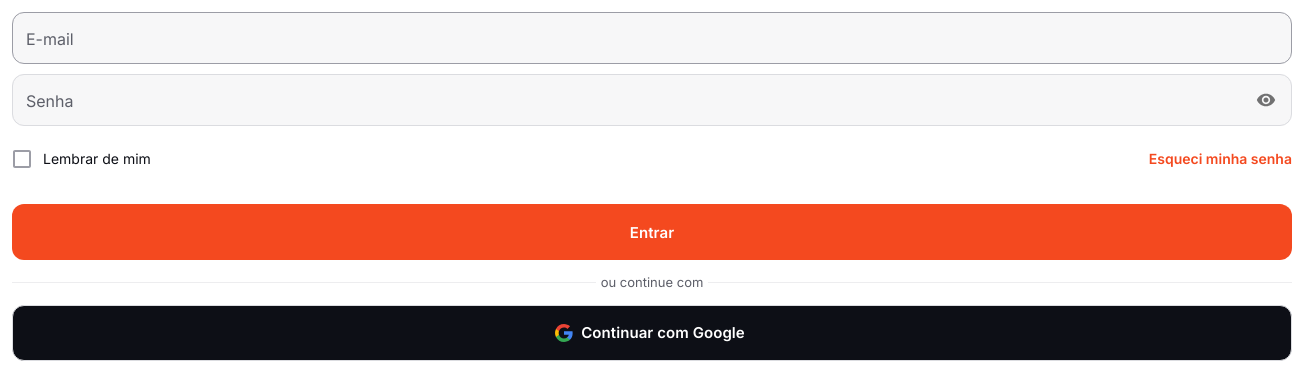
Test case: LoginForm › lets the user reveal the password
The image size is (1304, 378).
Type "super-secret" into the password field labelled "Senha".
click(628, 100); type("super-secret")  # box [12,74,1243,126]
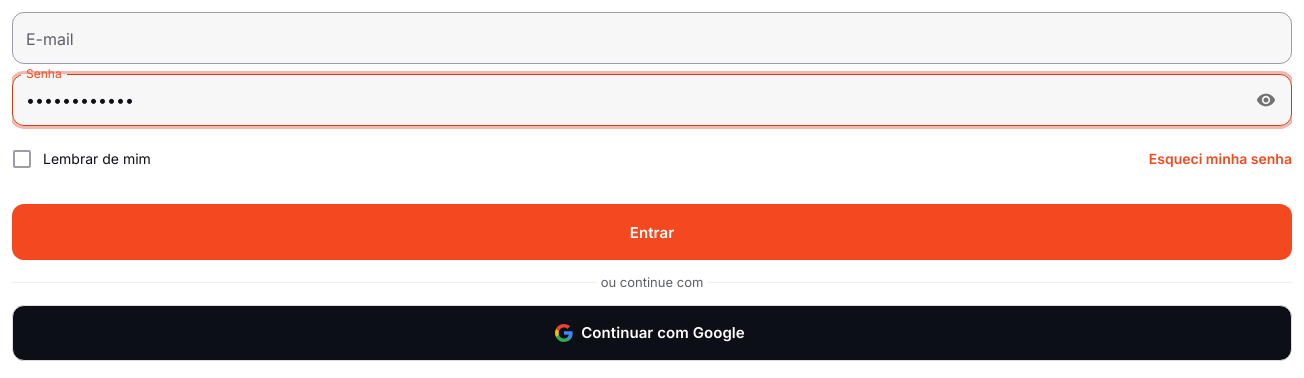
Click the button named "Mostrar senha".
click(1266, 100)  # box [1251,85,1281,115]
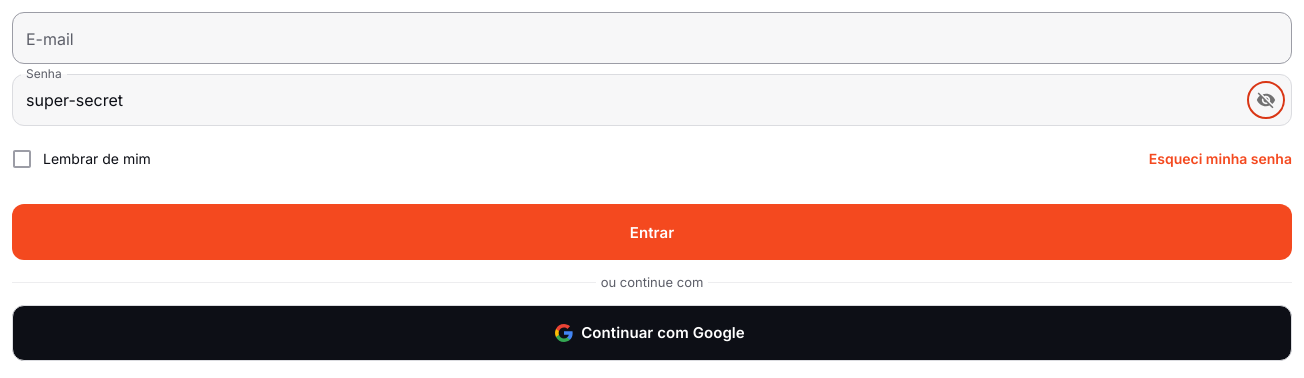
Expected: the field labelled "Senha" shows its text, [12,74,1243,126]
